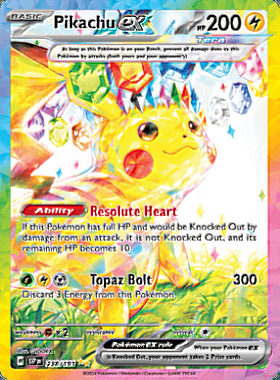Pikachu_ex: (0, 0, 280, 380)
